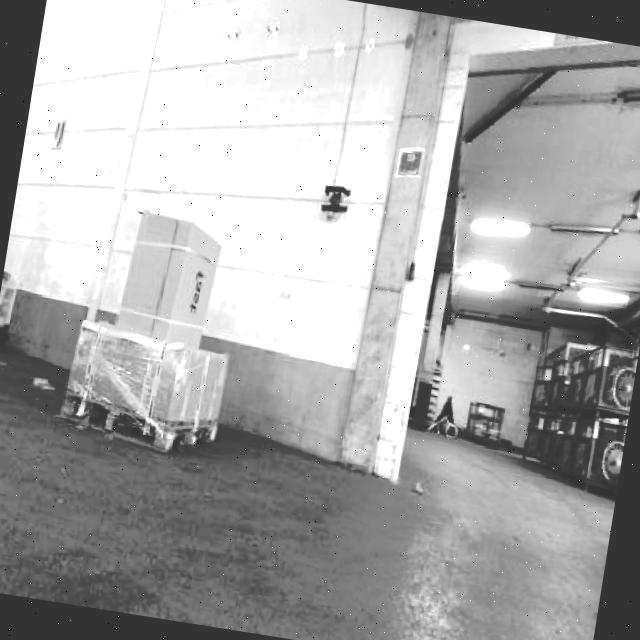ground: (0, 336, 624, 640)
pallet: (54, 315, 233, 460), (515, 330, 638, 500), (112, 206, 225, 350), (0, 230, 18, 344), (463, 400, 506, 447), (0, 264, 19, 351)
